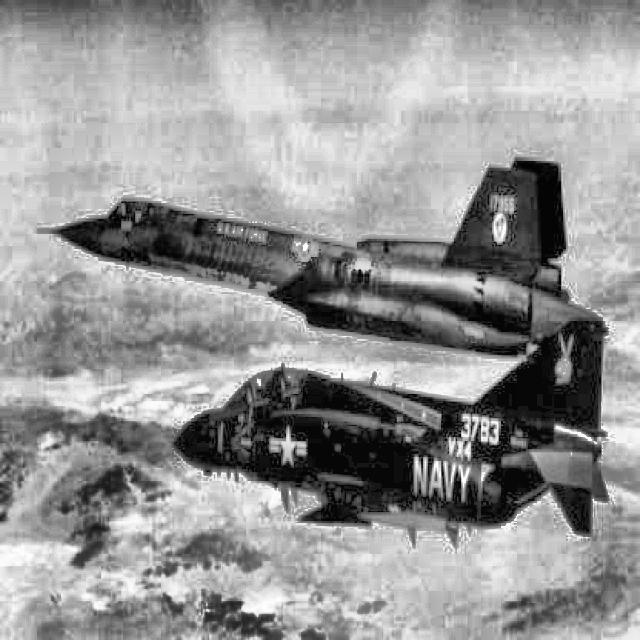F4: (171, 314, 611, 552)
SR71: (36, 157, 609, 360)
